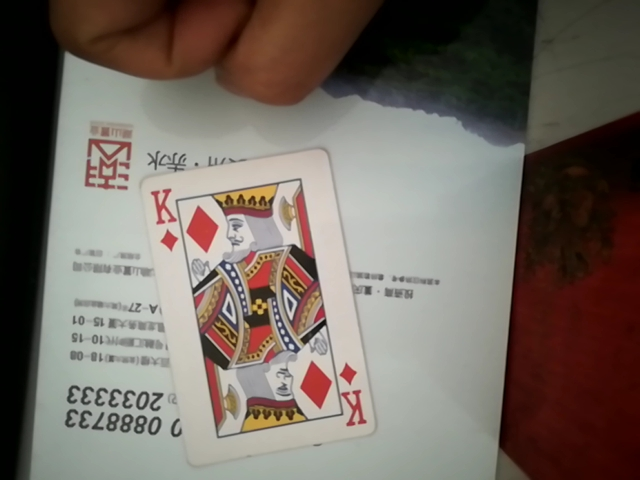fk k: (151, 147, 378, 465)
